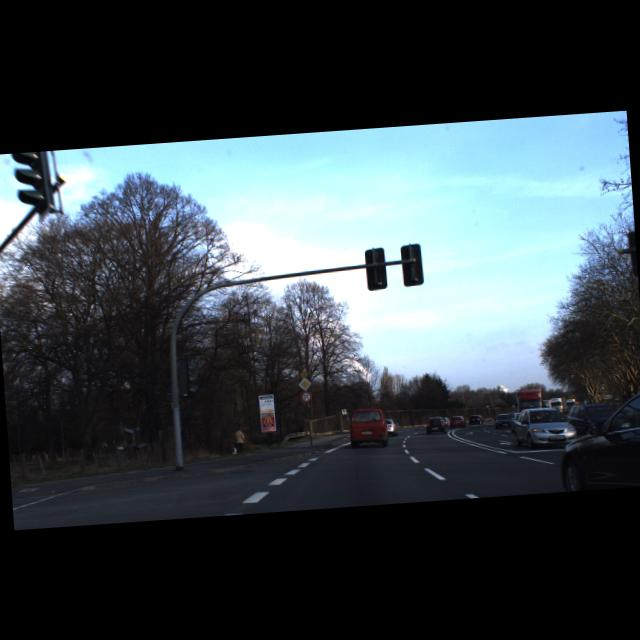other: (297, 376, 312, 390)
prohibitory: (300, 390, 312, 402)
